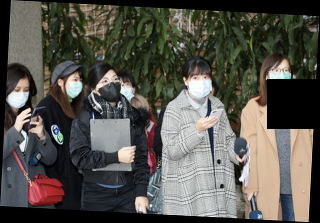with_mask: (187, 70, 212, 100), (98, 73, 122, 103), (268, 65, 292, 91), (7, 83, 30, 110), (65, 74, 84, 100), (118, 81, 135, 101)
